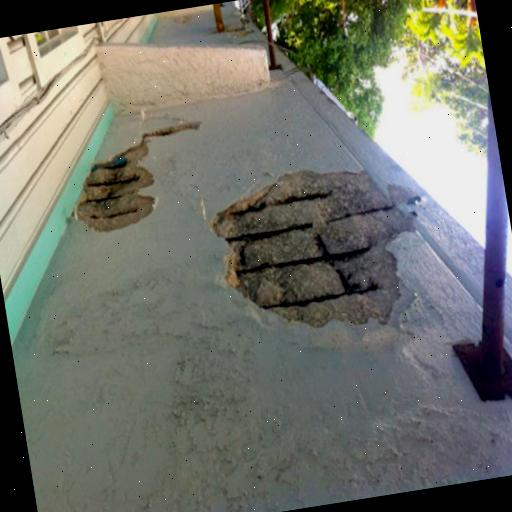spalling: (204, 164, 422, 325)
